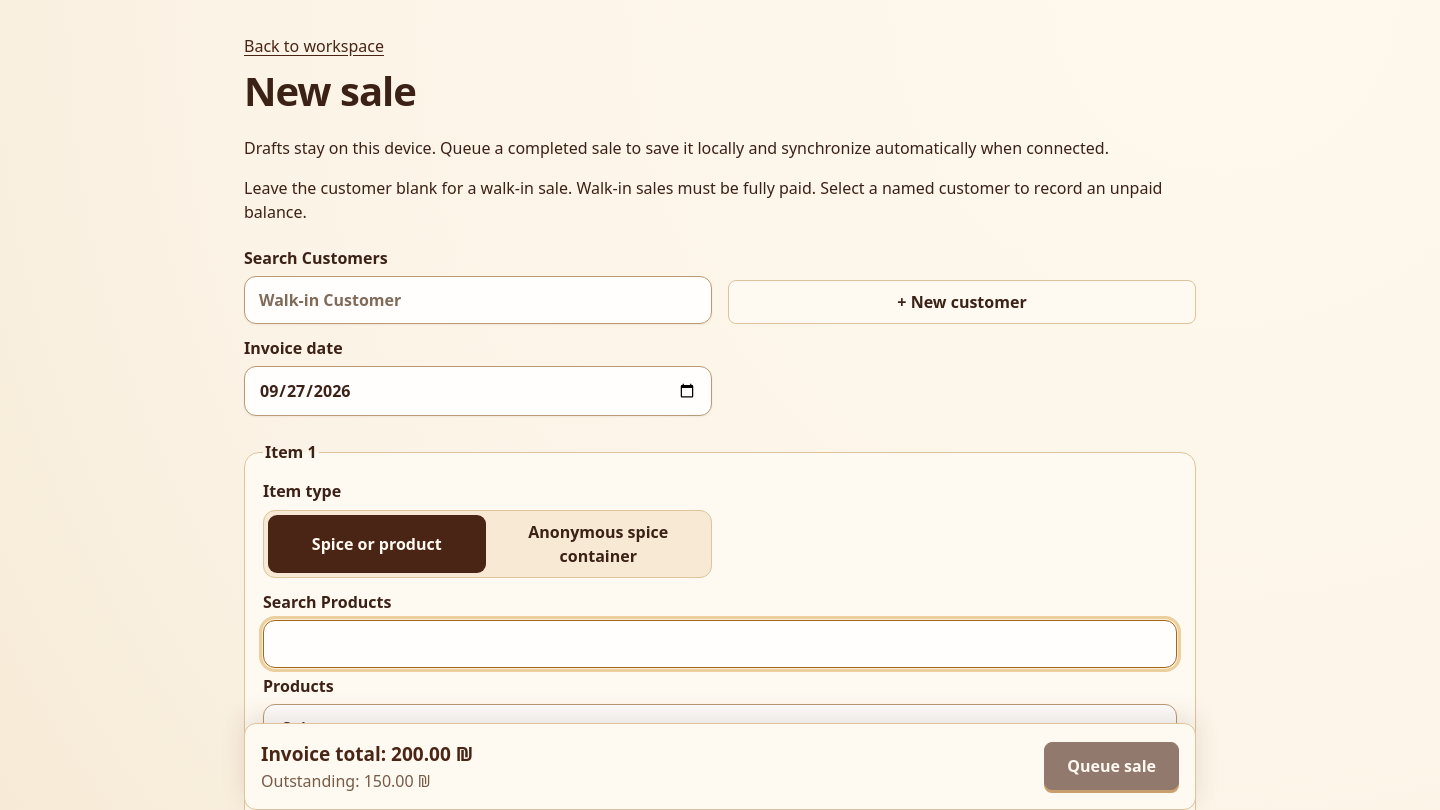
Scenario: quick customer creation selects and persists the customer without losing the sale draft
Click the button "+ New customer".
click(962, 302)  # box [728,280,1196,324]
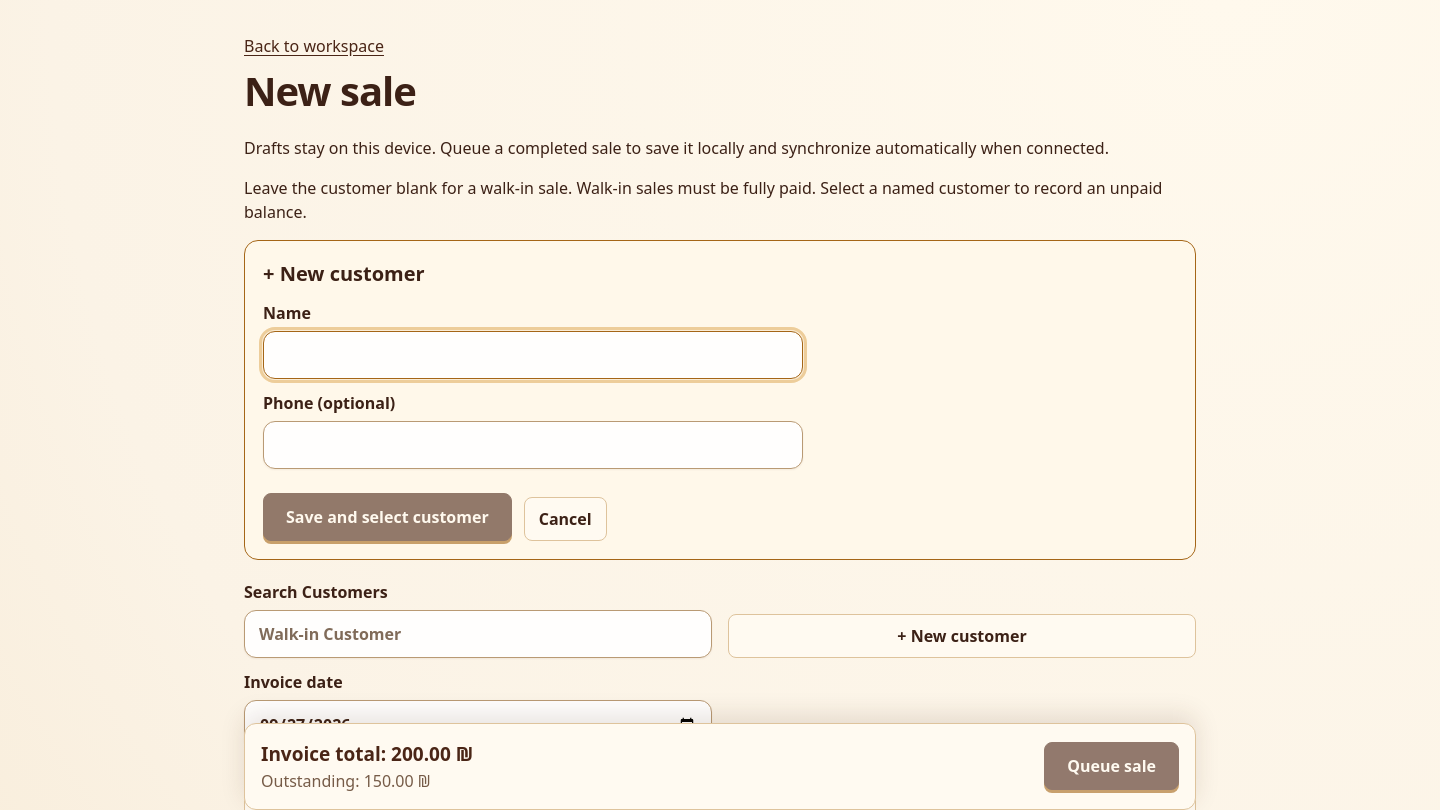
Type "New customer" into the field labelled "Name".
click(533, 355); type("New customer")  # box [263,331,803,379]
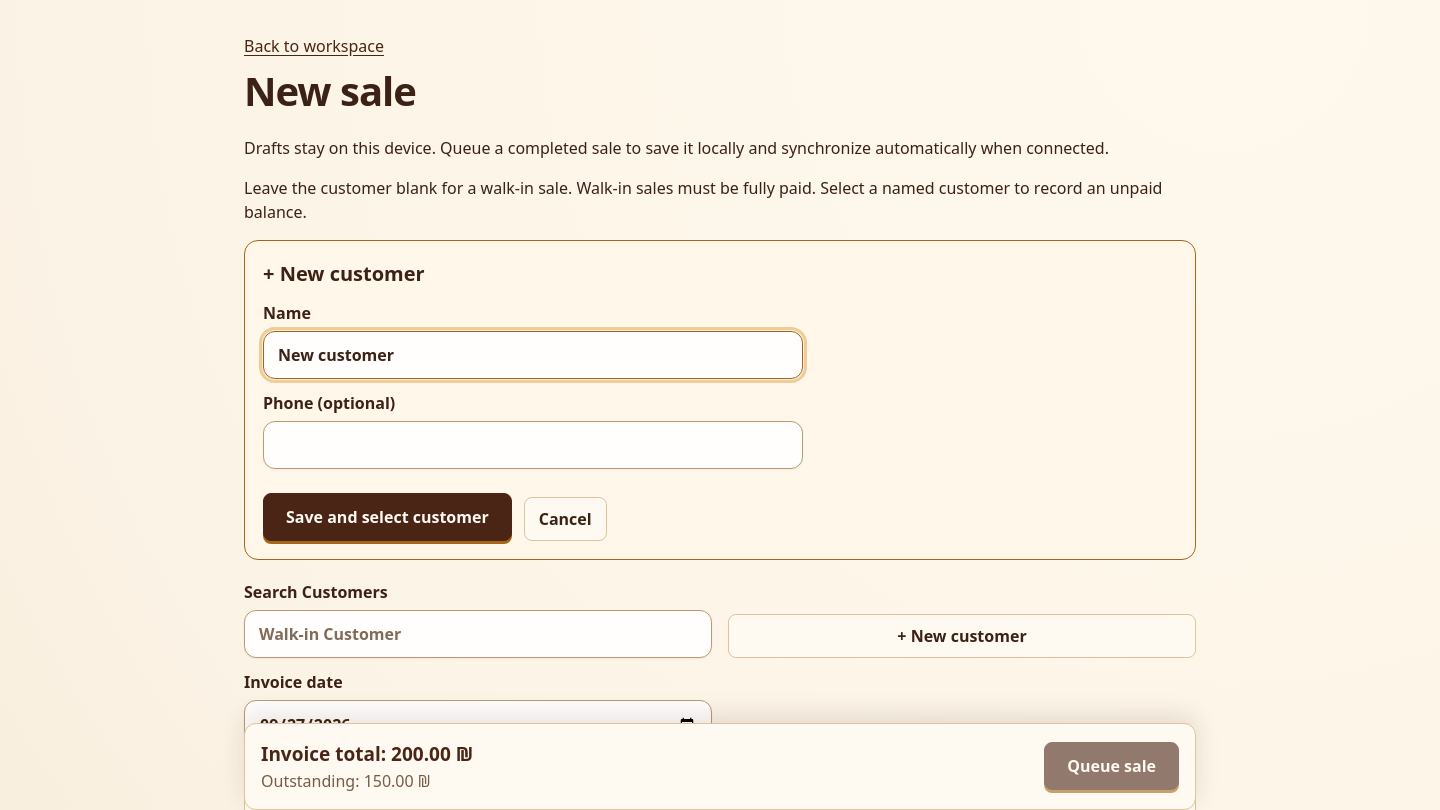
Type "0599123456" into the field labelled "Phone (optional)".
click(533, 445); type("0599123456")  # box [263,421,803,469]
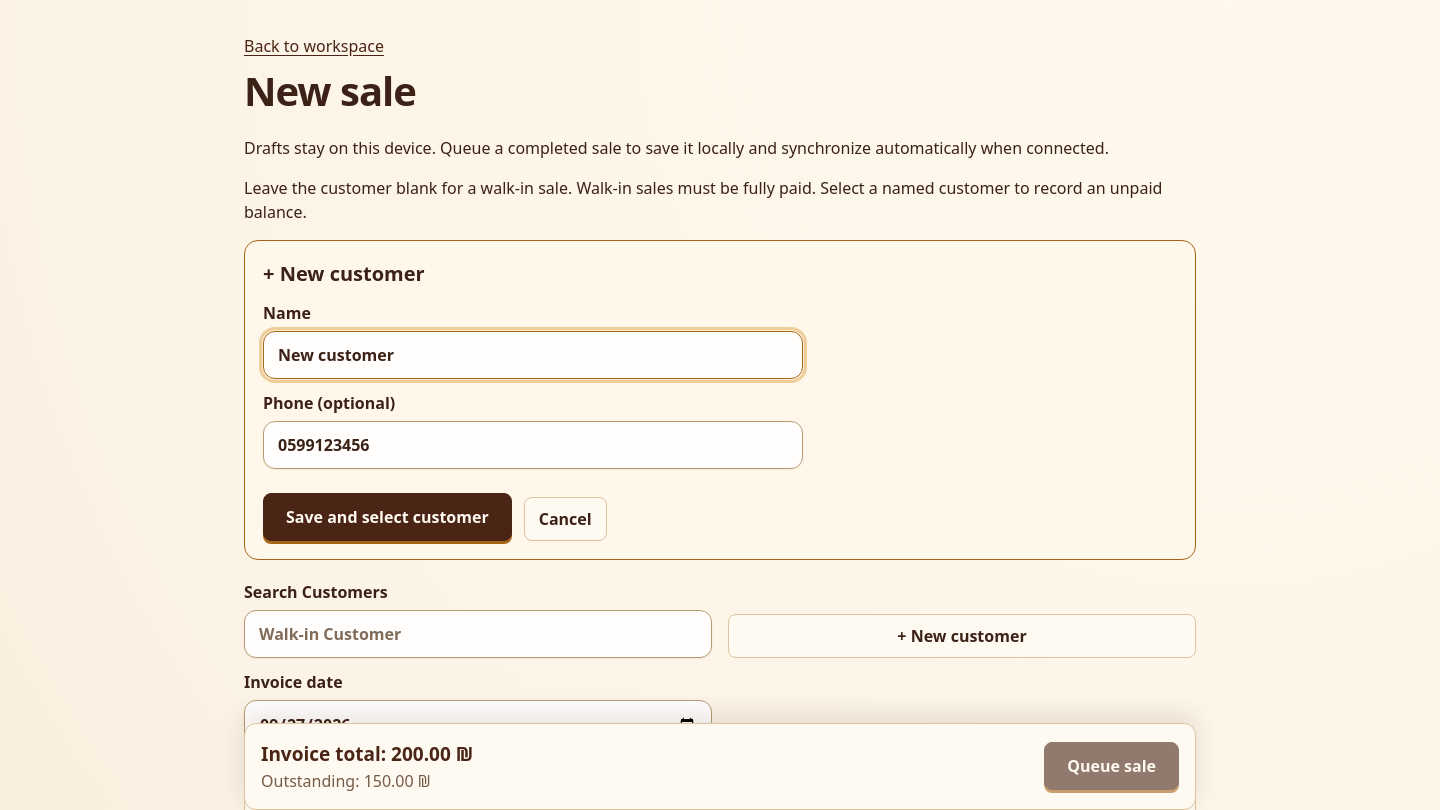
Click the button "Save and select customer".
click(387, 517)  # box [263,493,512,541]
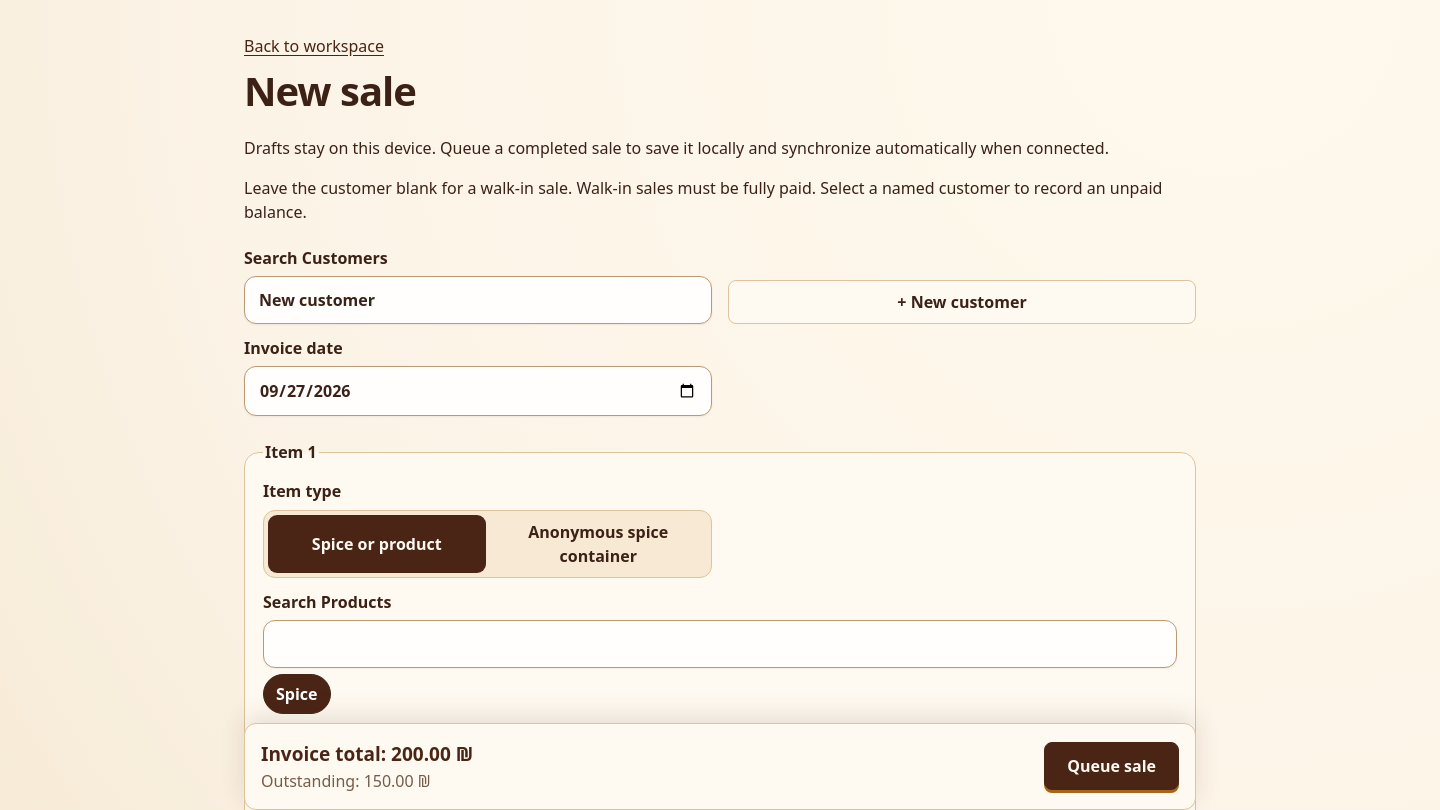
Expected: the dropdown labelled "Search Customers" holds "New customer", [244,276,712,324]
Expected: the button "Queue sale" is enabled, [1044,743,1179,791]
